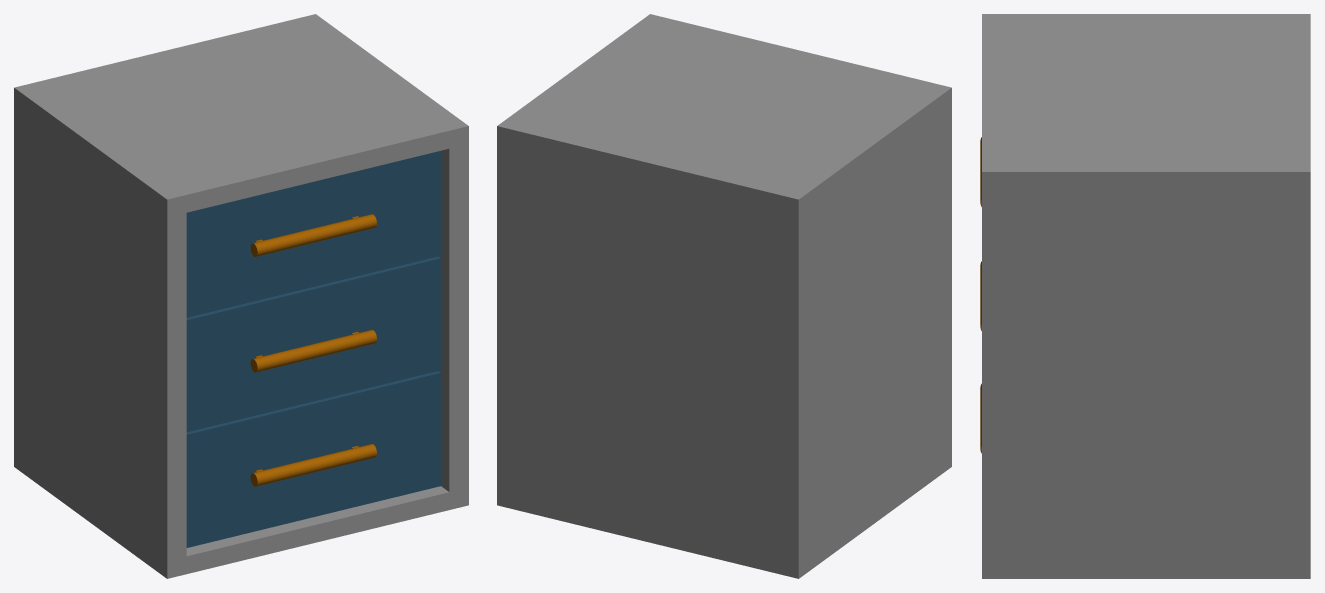
The model's file is Drawer.fbx.
The picture shows the model from 3 angles, left to right: view 1: azimuth 30°, elevation 25°; view 2: azimuth 150°, elevation 25°; view 3: azimuth 270°, elevation 25°; orthographic projection. The views are drawn at different scales.
Visible parts, largest first — view 1: Drawer.001; view 2: Drawer.001; view 3: Drawer.001.
Part boxes in pixels (x1=…): Drawer.001: x1=14, y1=14, x2=468, y2=578; Drawer.001: x1=497, y1=14, x2=951, y2=578; Drawer.001: x1=980, y1=14, x2=1310, y2=578.
Bounding box in the file's own units: 101 × 121 × 88.83.
